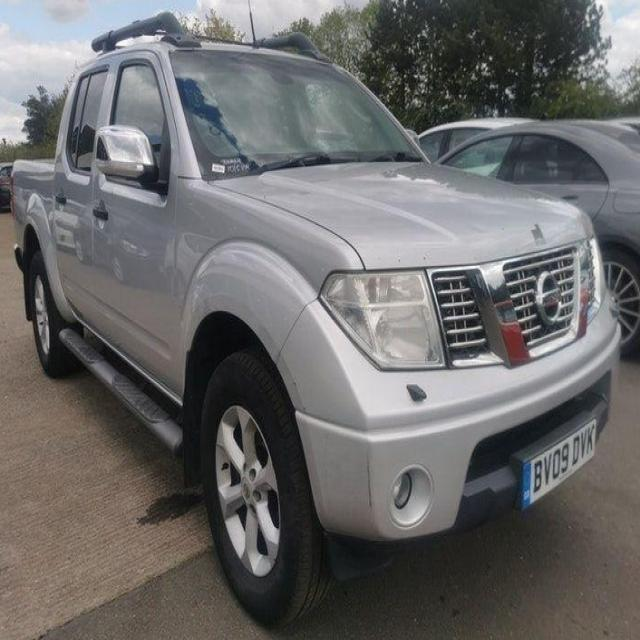CMT: (11, 25, 626, 622)
